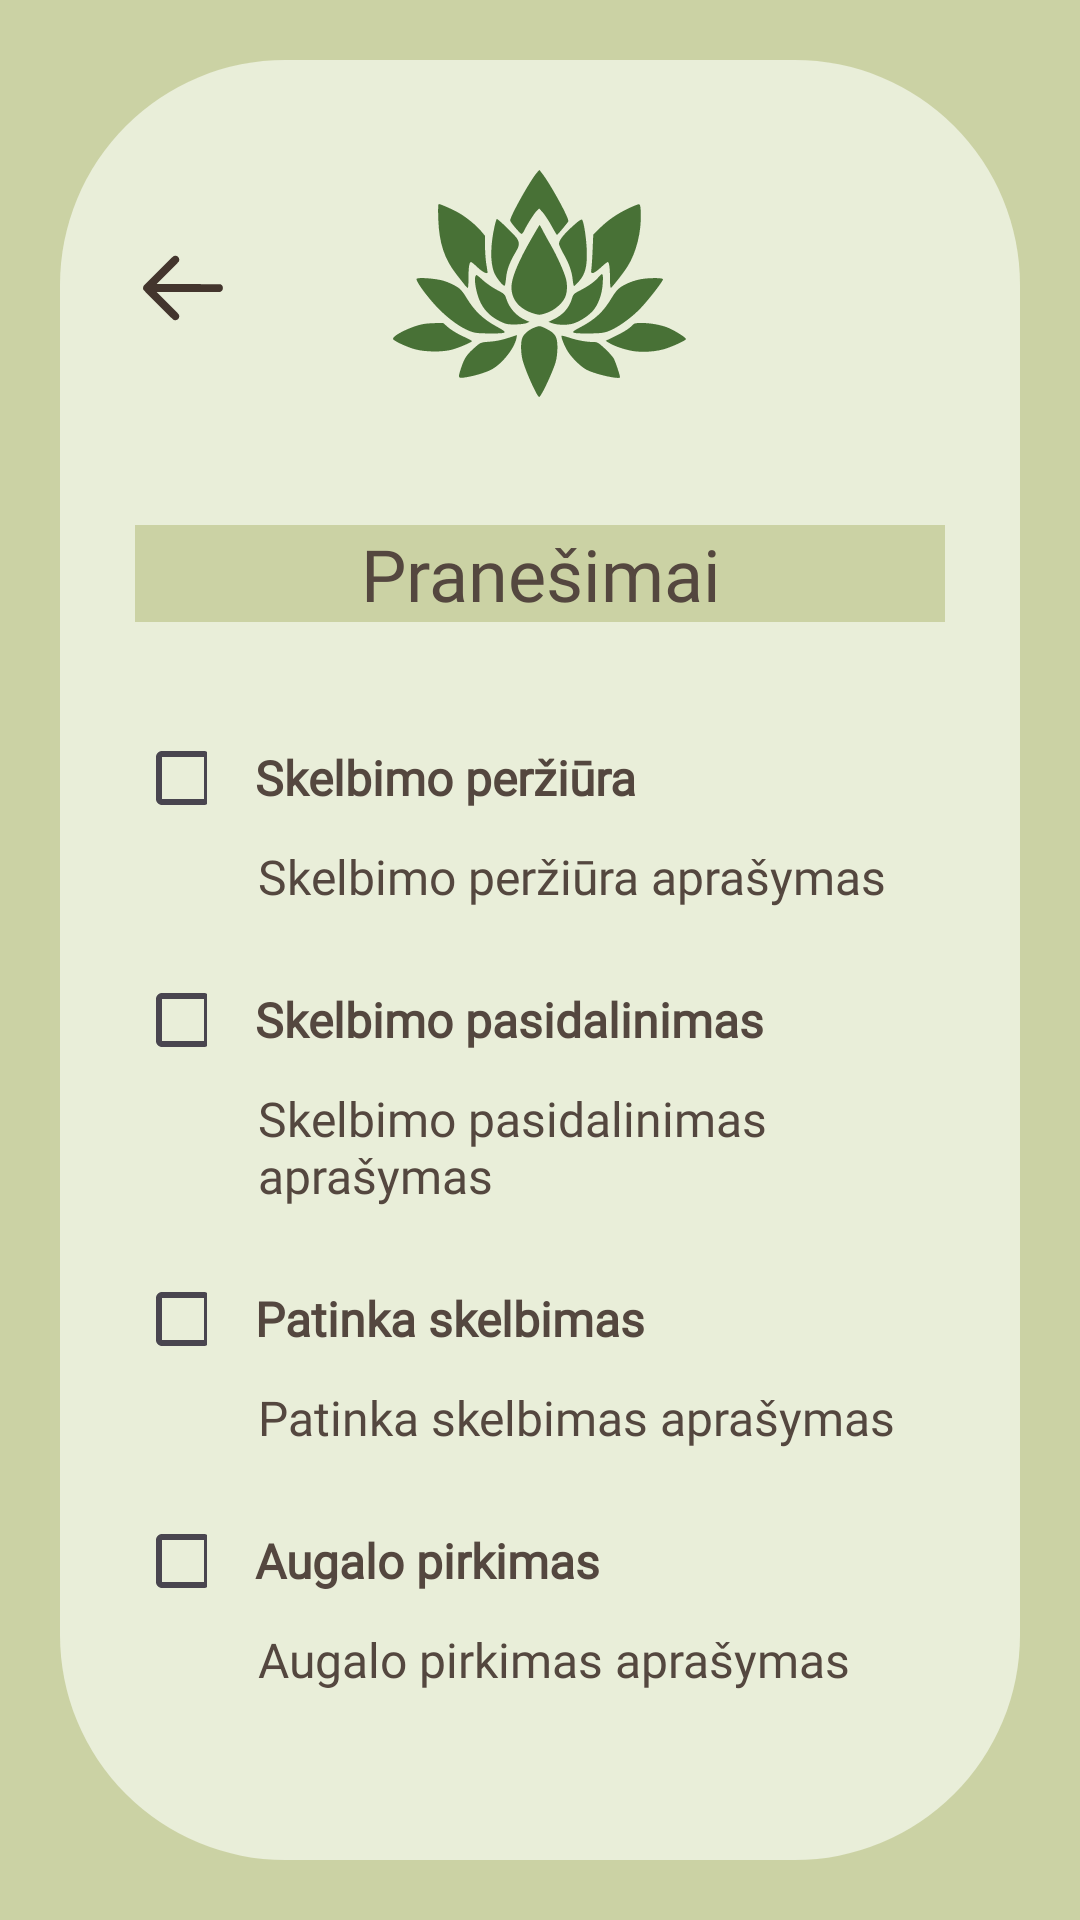

Icon bounding boxes for this 1080w x 1920h phone screenshot, format (x1,y1,x2,y2):
Lotus icon: (393,170,686,397)
